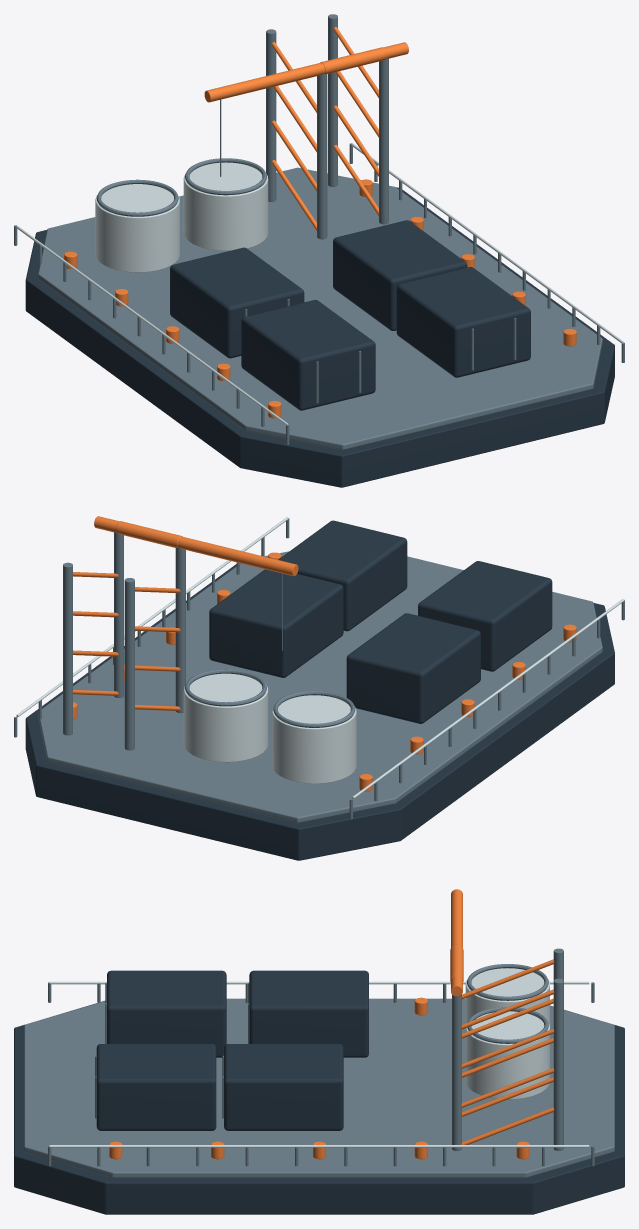
The model's file is HarborPort.fbx.
3 views of the same model, one above another, from view 1: azimuth 30°, elevation 25°; view 2: azimuth 150°, elevation 25°; view 3: azimuth 270°, elevation 25° (orthographic).
Visible parts, largest first — view 1: Inset concrete deck.002, Chamfered breakwater.002, Cargo frame.008, Cargo frame.010, Cargo frame.009, Cargo frame.011, Fuel reservoir.005, Fuel reservoir.004, Crane outreach.002, Crane lattice leg.008, Crane lattice leg.010, Crane lattice leg.009 (+6 smaller); view 2: Inset concrete deck.002, Chamfered breakwater.002, Cargo frame.009, Cargo frame.011, Cargo frame.008, Cargo frame.010, Fuel reservoir.005, Fuel reservoir.004, Crane lattice leg.009, Crane outreach.002, Crane lattice leg.011, Crane lattice leg.008 (+6 smaller); view 3: Inset concrete deck.002, Chamfered breakwater.002, Cargo frame.010, Cargo frame.011, Cargo frame.009, Cargo frame.008, Fuel reservoir.005, Fuel reservoir.004, Crane lattice leg.011, Continuous dock rail.005, Crane lattice leg.010, Crane outreach.002 (+11 smaller).
Boxes of the visible parts, x1,y1,x2,y2 form: Inset concrete deck.002: [38, 167, 602, 449]; Chamfered breakwater.002: [25, 187, 614, 487]; Cargo frame.008: [241, 300, 375, 410]; Cargo frame.010: [396, 267, 530, 377]; Cargo frame.009: [170, 247, 304, 358]; Cargo frame.011: [333, 220, 467, 330]; Fuel reservoir.005: [183, 162, 268, 250]; Fuel reservoir.004: [95, 184, 179, 272]; Crane outreach.002: [204, 42, 408, 102]; Crane lattice leg.008: [317, 73, 327, 239]; Crane lattice leg.010: [379, 58, 388, 224]; Crane lattice leg.009: [266, 29, 276, 201]; Inset concrete deck.002: [38, 551, 602, 823]; Chamfered breakwater.002: [25, 563, 614, 860]; Cargo frame.009: [346, 613, 480, 723]; Cargo frame.011: [209, 569, 343, 677]; Cargo frame.008: [418, 561, 552, 671]; Cargo frame.010: [278, 520, 407, 631]; Fuel reservoir.005: [183, 673, 268, 762]; Fuel reservoir.004: [272, 695, 356, 783]; Crane lattice leg.009: [124, 578, 134, 750]; Crane outreach.002: [94, 516, 298, 576]; Crane lattice leg.011: [63, 562, 72, 735]; Crane lattice leg.008: [175, 547, 185, 713]; Inset concrete deck.002: [24, 998, 614, 1177]; Chamfered breakwater.002: [14, 1001, 624, 1214]; Cargo frame.010: [96, 1044, 216, 1130]; Cargo frame.011: [224, 1044, 343, 1130]; Cargo frame.009: [249, 970, 368, 1057]; Cargo frame.008: [107, 970, 226, 1057]; Fuel reservoir.005: [465, 1011, 549, 1099]; Fuel reservoir.004: [465, 968, 549, 1025]; Crane lattice leg.011: [553, 978, 563, 1150]; Continuous dock rail.005: [49, 1145, 589, 1147]; Crane lattice leg.010: [452, 994, 461, 1150]; Crane outreach.002: [451, 889, 462, 996].
Bounding box in the file's own units: 850 × 463 × 1200.
